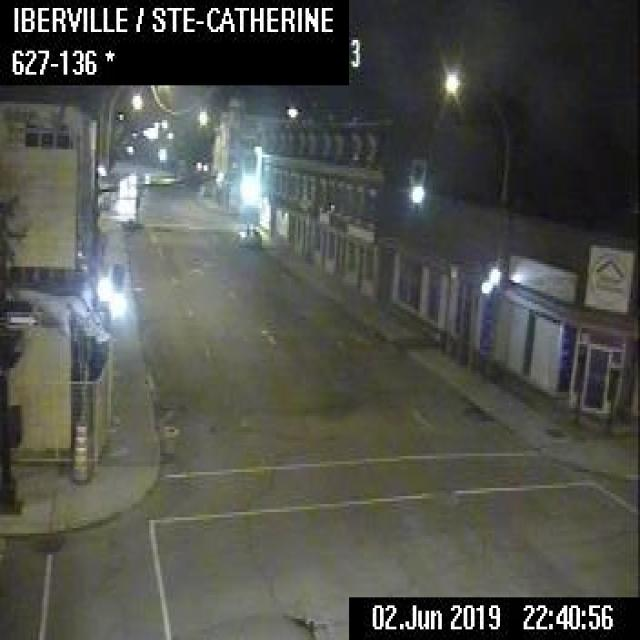construction: (68, 418, 88, 483)
vehicle: (235, 220, 260, 247)
